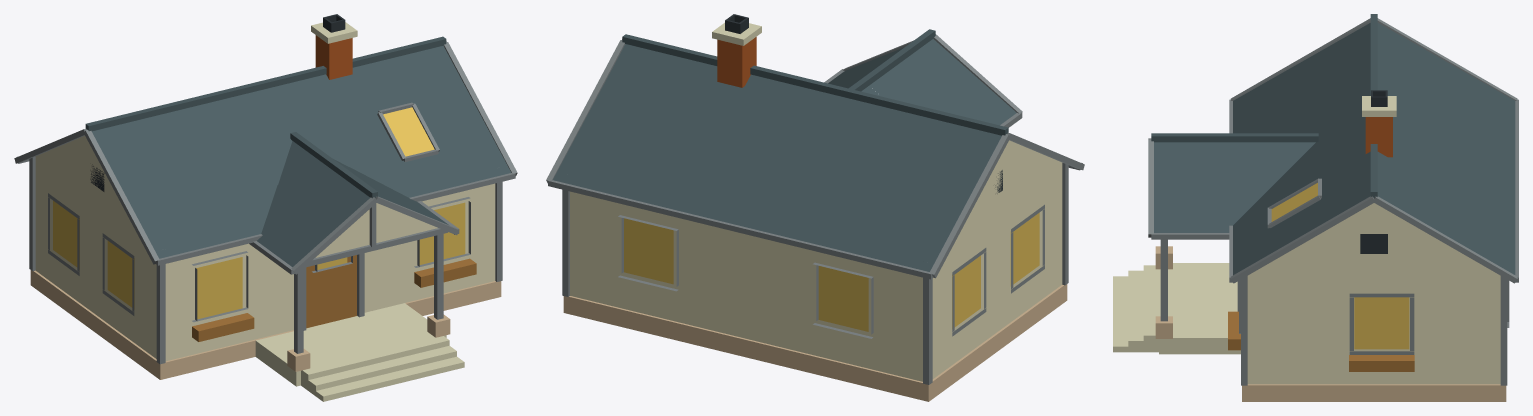
The model's file is House_A_Lv2_LOD2.fbx.
The picture shows the model from 3 angles, left to right: view 1: azimuth 30°, elevation 25°; view 2: azimuth 150°, elevation 25°; view 3: azimuth 270°, elevation 25°; orthographic projection. The views are drawn at different scales.
Visible parts, largest first — view 1: House_A_Lv2_Low; view 2: House_A_Lv2_Low; view 3: House_A_Lv2_Low.
Part boxes in pixels (x1=…): House_A_Lv2_Low: x1=14, y1=14, x2=517, y2=401; House_A_Lv2_Low: x1=546, y1=14, x2=1084, y2=401; House_A_Lv2_Low: x1=1113, y1=14, x2=1518, y2=401.
Size of the model in its own units: 14.03 by 9.34 by 13.29.
